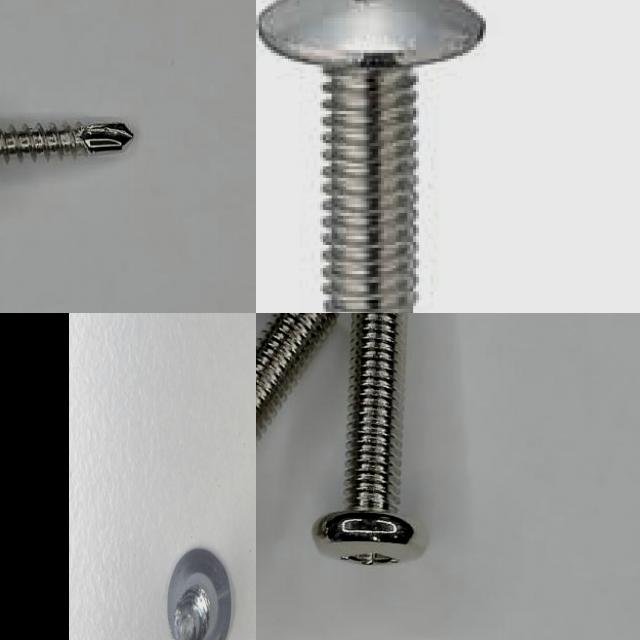Screw: (256, 0, 486, 313), (314, 313, 421, 564), (256, 313, 337, 438), (167, 548, 231, 640), (0, 122, 134, 162)
